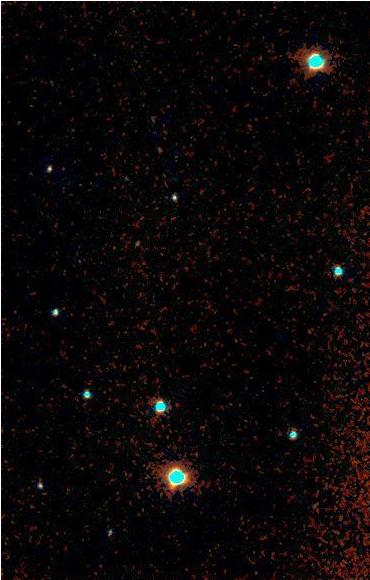star: (157, 470, 187, 500)
